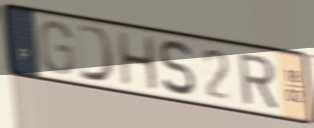2: (201, 47, 232, 103)
D: (74, 21, 118, 86)
G: (37, 18, 77, 77)
H: (115, 30, 160, 94)
R: (236, 51, 280, 110)
S: (158, 38, 197, 98)
